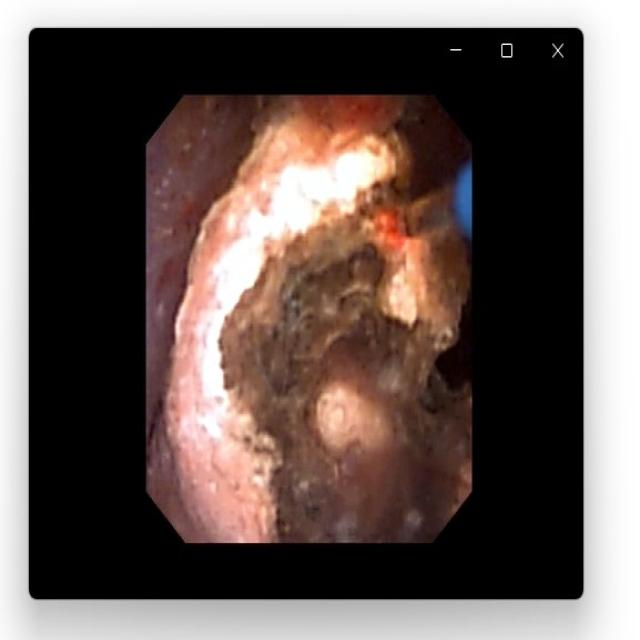stone: (154, 106, 470, 536)
